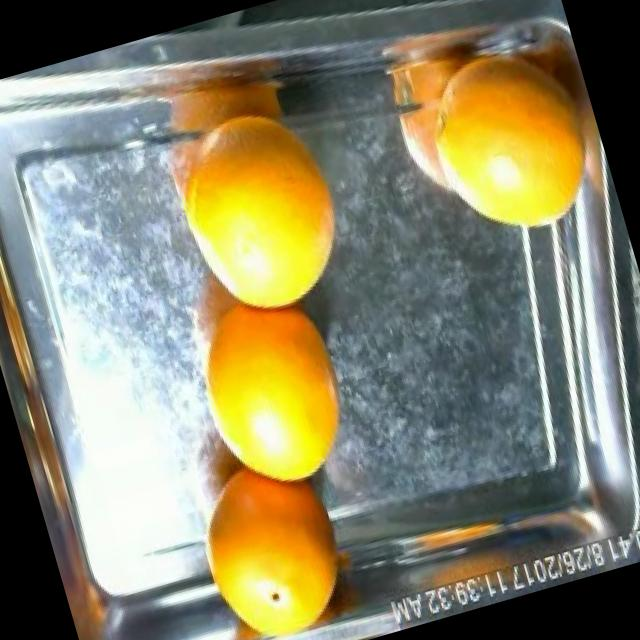Fruit: (148, 94, 376, 342), (174, 274, 385, 518), (163, 413, 378, 640)
